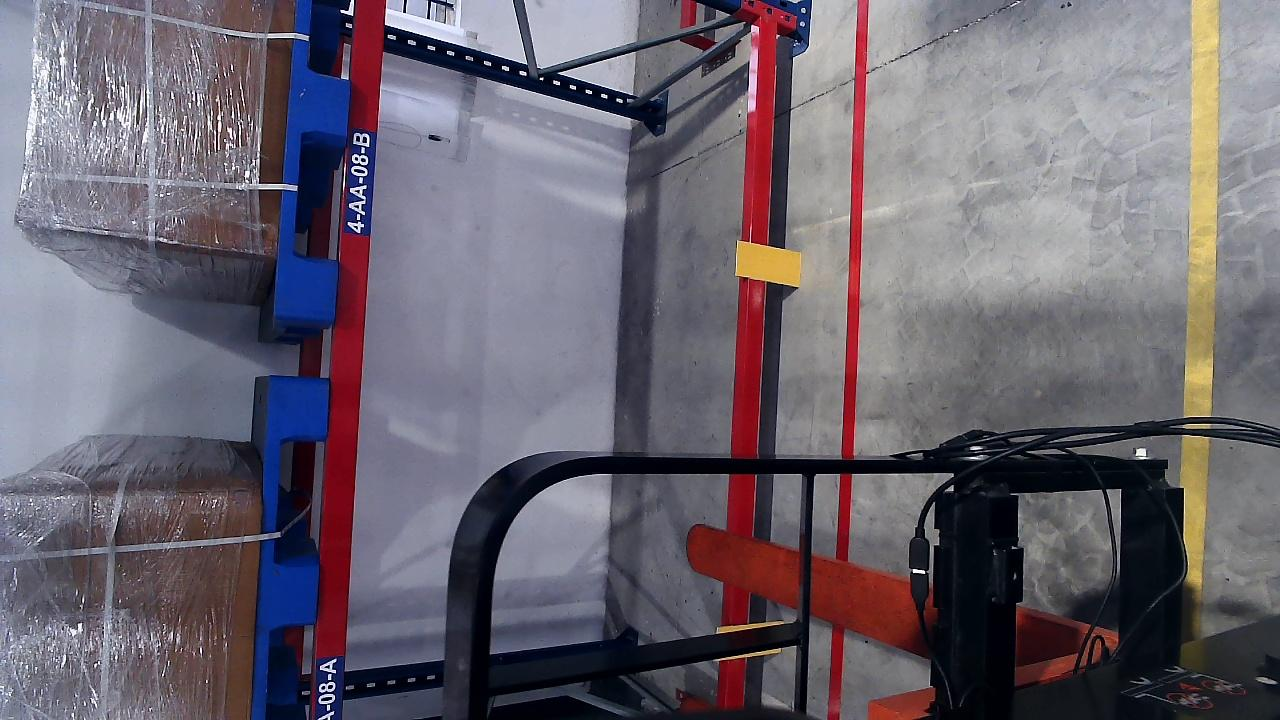h_rack: (315, 0, 389, 715), (728, 2, 775, 546)
orange_strip: (735, 241, 801, 287)
red_line: (837, 9, 869, 589)
small_pallet: (270, 0, 367, 315), (252, 381, 326, 720)
yellow_line: (1182, 0, 1221, 416)
